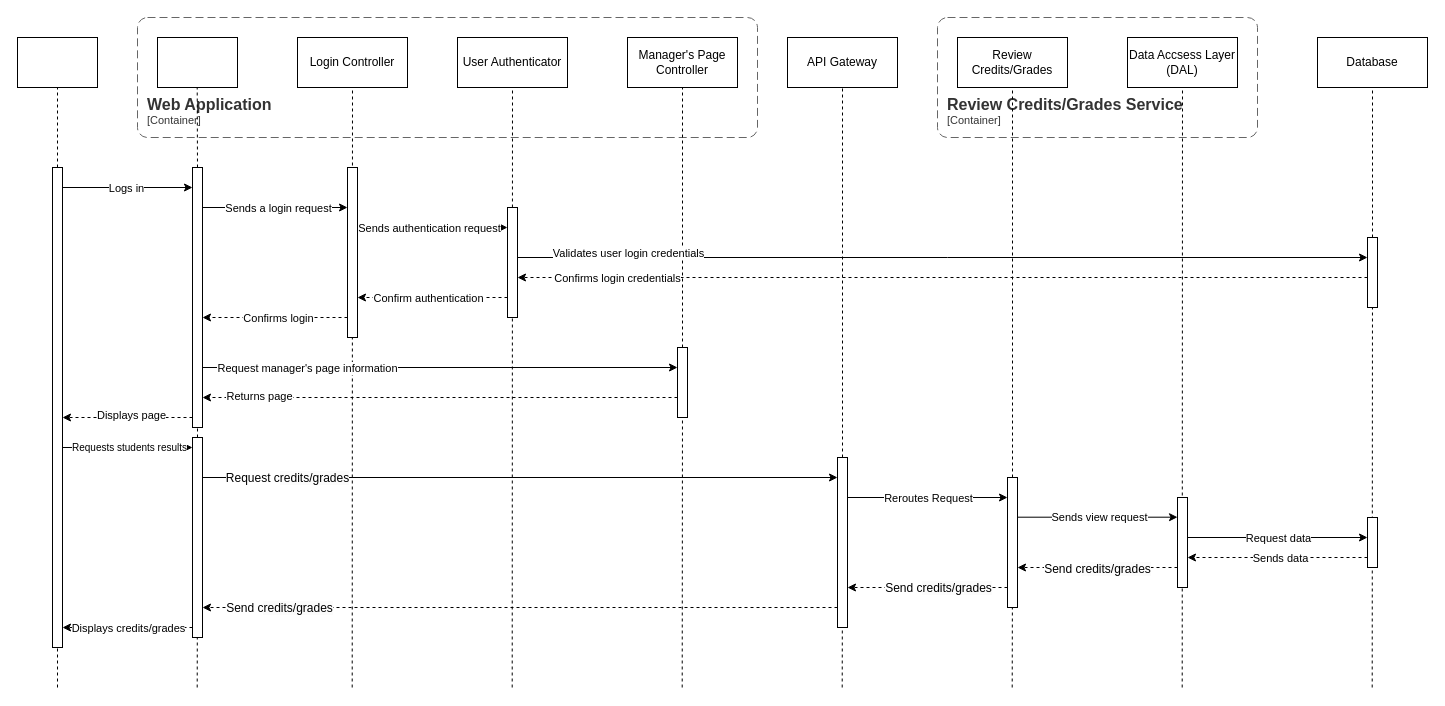
The diagram is 1445 pixels wide and 706 high, and some of its shapes have lost their labels. The centre of each missing label's shape, as x and y in pixels:
Display Controller: point (197, 62)
Student/Teacher: point (57, 62)
